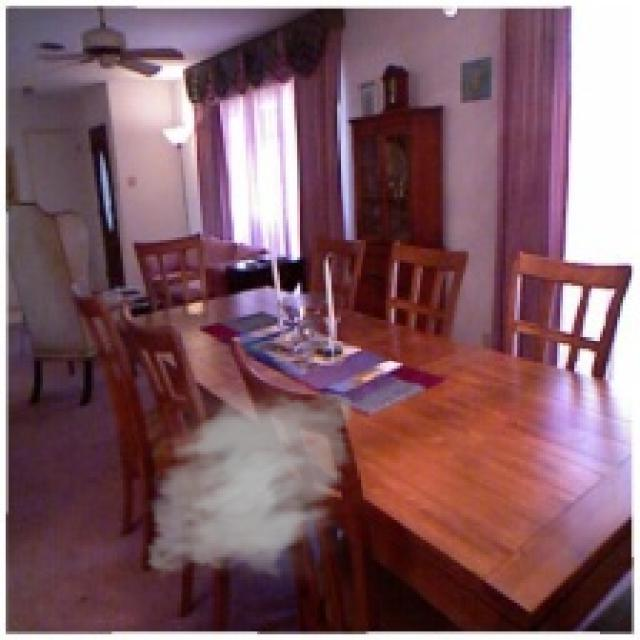smoke: (137, 372, 363, 588)
